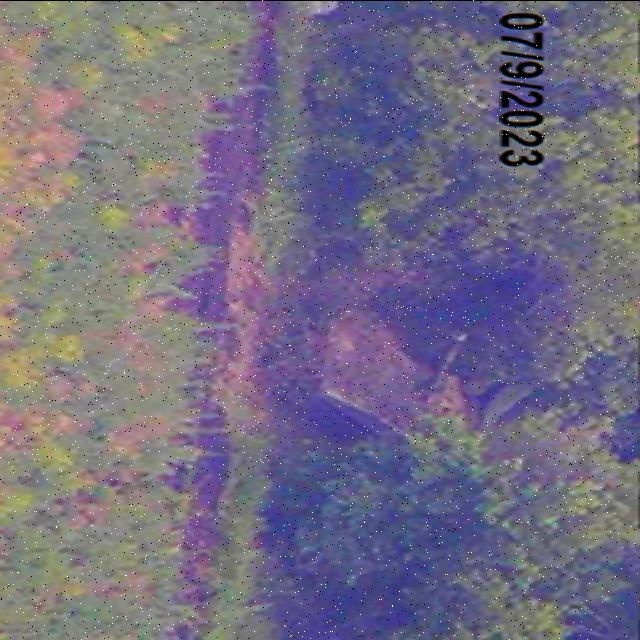ART: (269, 302, 480, 452)
